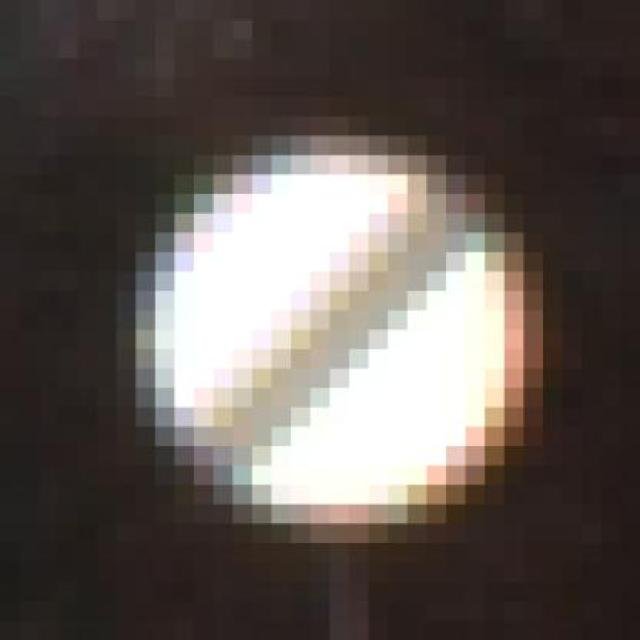End of all speed and passing limits: (116, 78, 544, 524)
